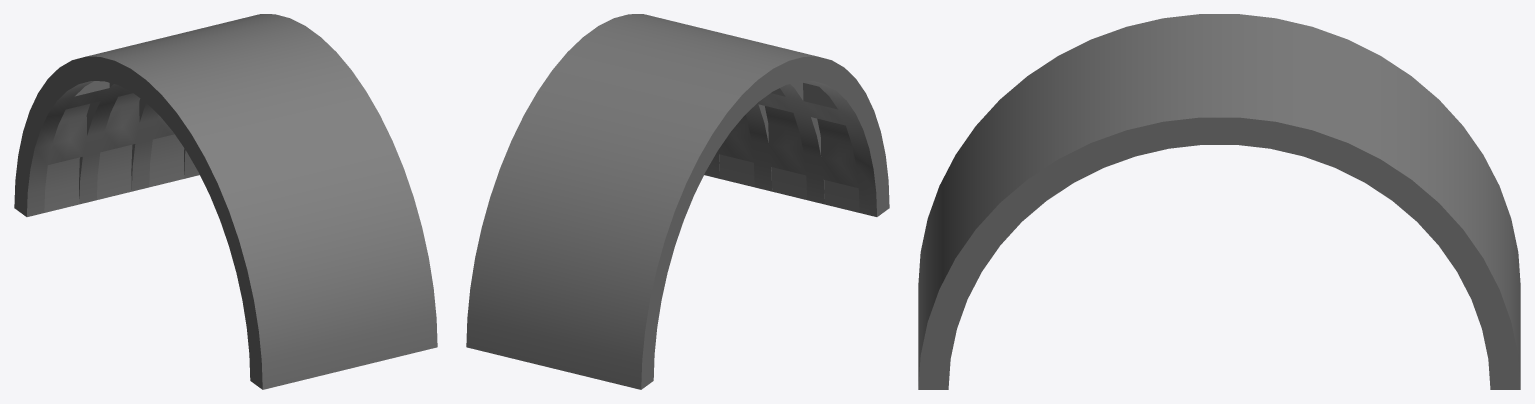
File: techoAbierto2.glb
3 renders of one model, left to right at view 1: azimuth 30°, elevation 25°; view 2: azimuth 150°, elevation 25°; view 3: azimuth 270°, elevation 25°, orthographic. The views are drawn at different scales.
Visible parts, largest first — view 1: Circle; view 2: Circle; view 3: Circle.
Part boxes in pixels (<box>): Circle: <box>14,14,437,389</box>; Circle: <box>466,14,889,389</box>; Circle: <box>918,14,1520,389</box>.
Bounding box in the file's own units: 4.88 × 5.99 × 12.
1 material, 1 textured.
